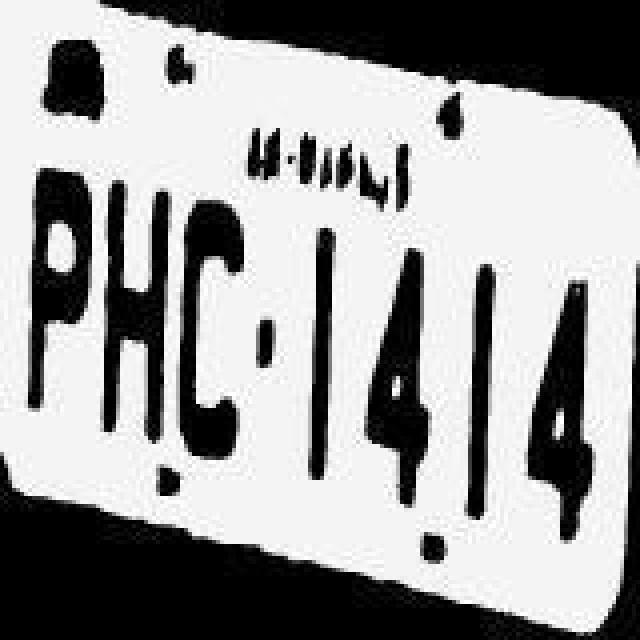1: (300, 226, 348, 494), (462, 252, 506, 524)
4: (522, 266, 598, 550), (362, 244, 438, 524)
C: (178, 196, 254, 468)
H: (96, 178, 176, 454)
P: (12, 156, 92, 436)
